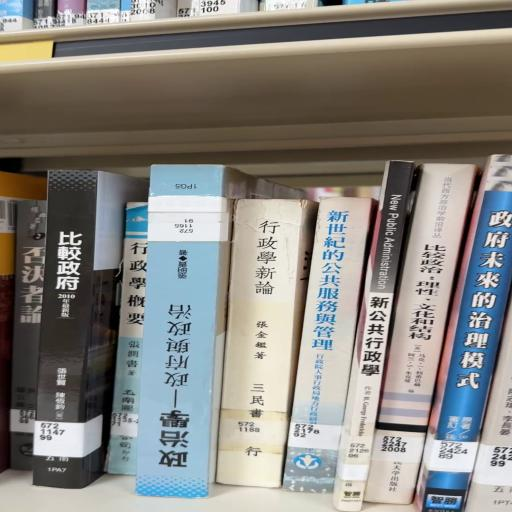reverse: (136, 165, 301, 498)
